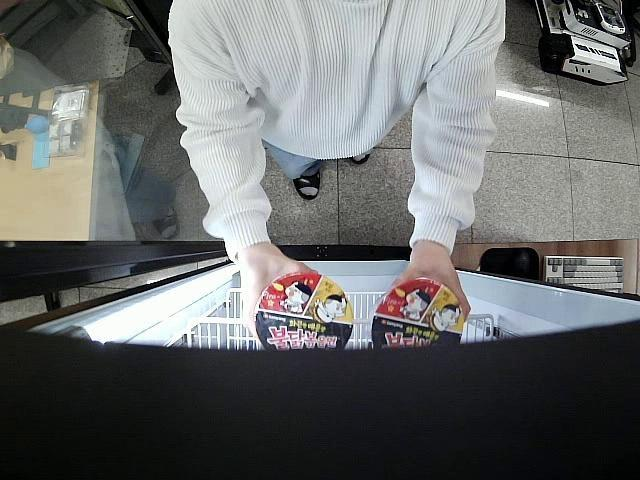07_buldak_L: (254, 272, 354, 349), (371, 278, 464, 349)
